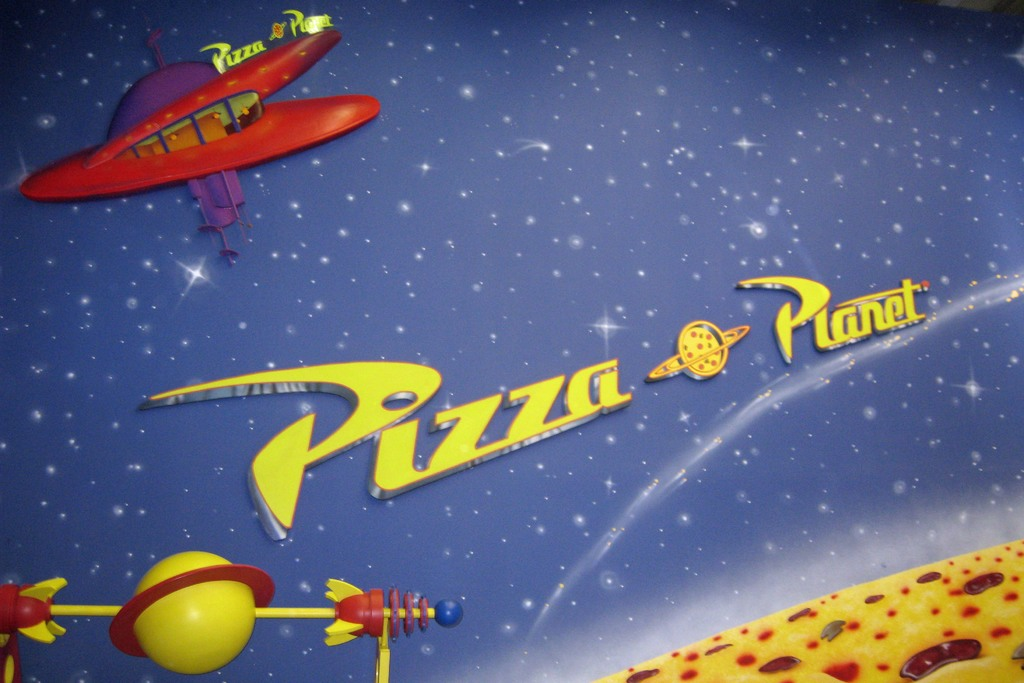Ball: (134, 548, 257, 677)
